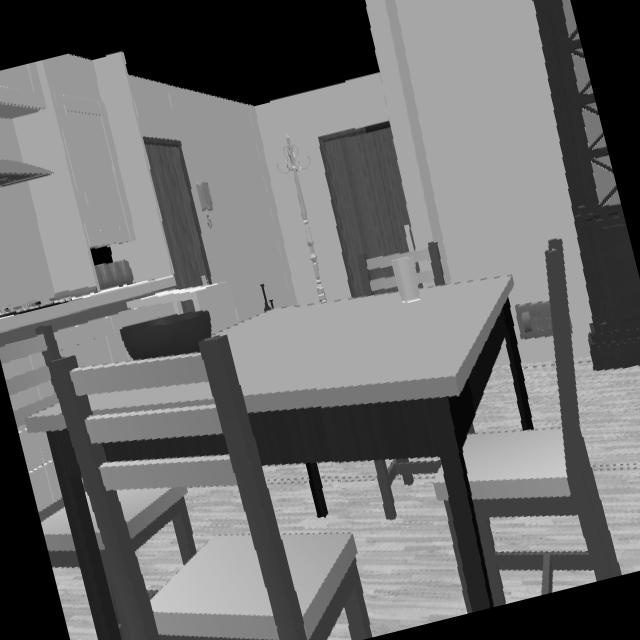bookshelf: (531, 0, 640, 370)
cabinet: (0, 53, 136, 293)
chair: (48, 336, 373, 640), (462, 239, 622, 607)
countertop: (0, 275, 177, 348)
stove: (0, 296, 88, 318)
table: (226, 277, 514, 613), (27, 405, 123, 640)
